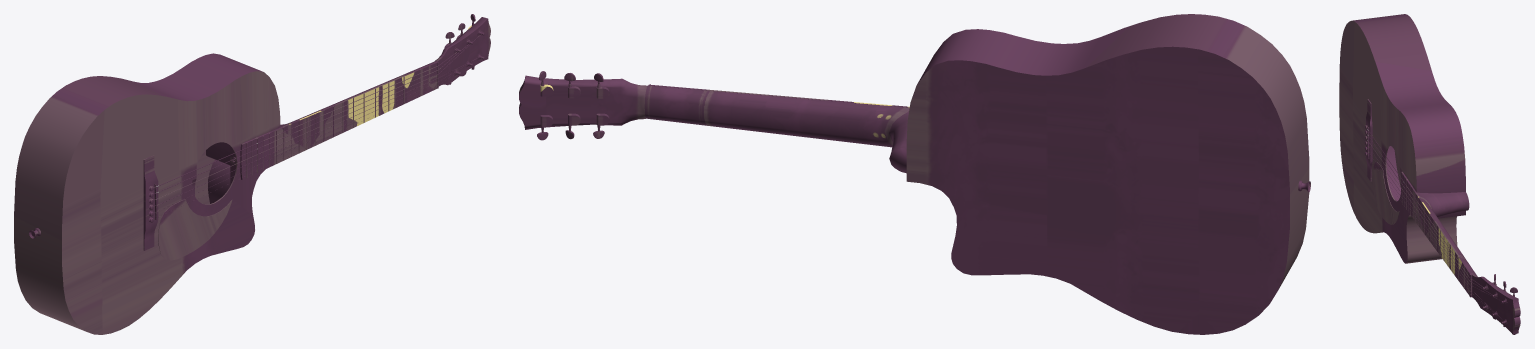
3 views of the same model, side by side, from view 1: azimuth 30°, elevation 25°; view 2: azimuth 150°, elevation 25°; view 3: azimuth 270°, elevation 25° (orthographic). The views are drawn at different scales.
Parts seen in each view (by area): view 1: sdf_default_0; view 2: sdf_default_0; view 3: sdf_default_0.
Boxes of the visible parts, x1,y1,x2,y2 form: sdf_default_0: (14, 14, 490, 334); sdf_default_0: (519, 14, 1310, 334); sdf_default_0: (1339, 14, 1520, 334).
Size of the model in its own units: 1.1 by 0.4421 by 0.3686.
